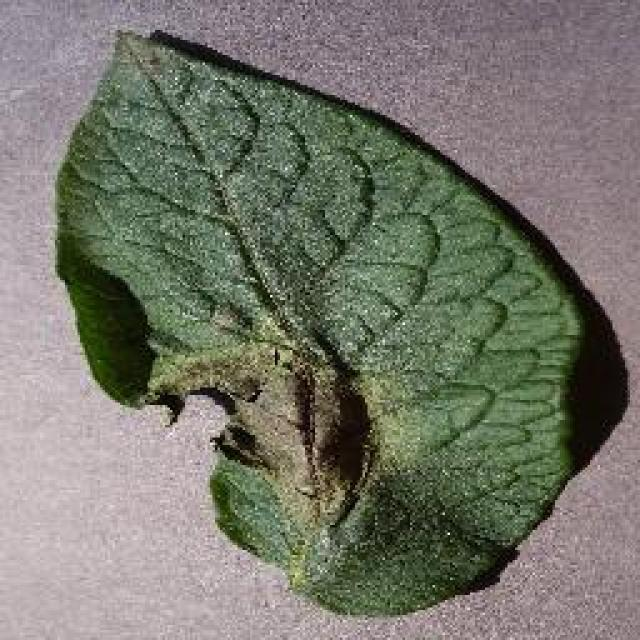late_blight: (48, 25, 610, 620)
